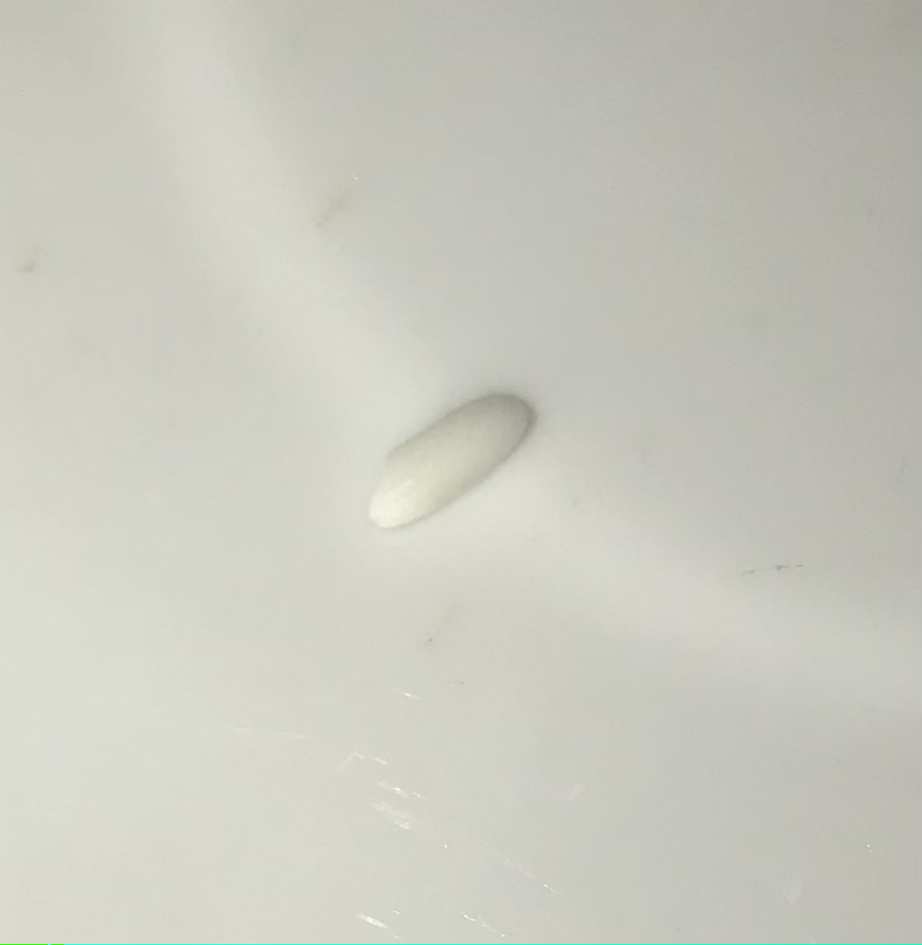Gao Nep Sap: (352, 383, 551, 541)
